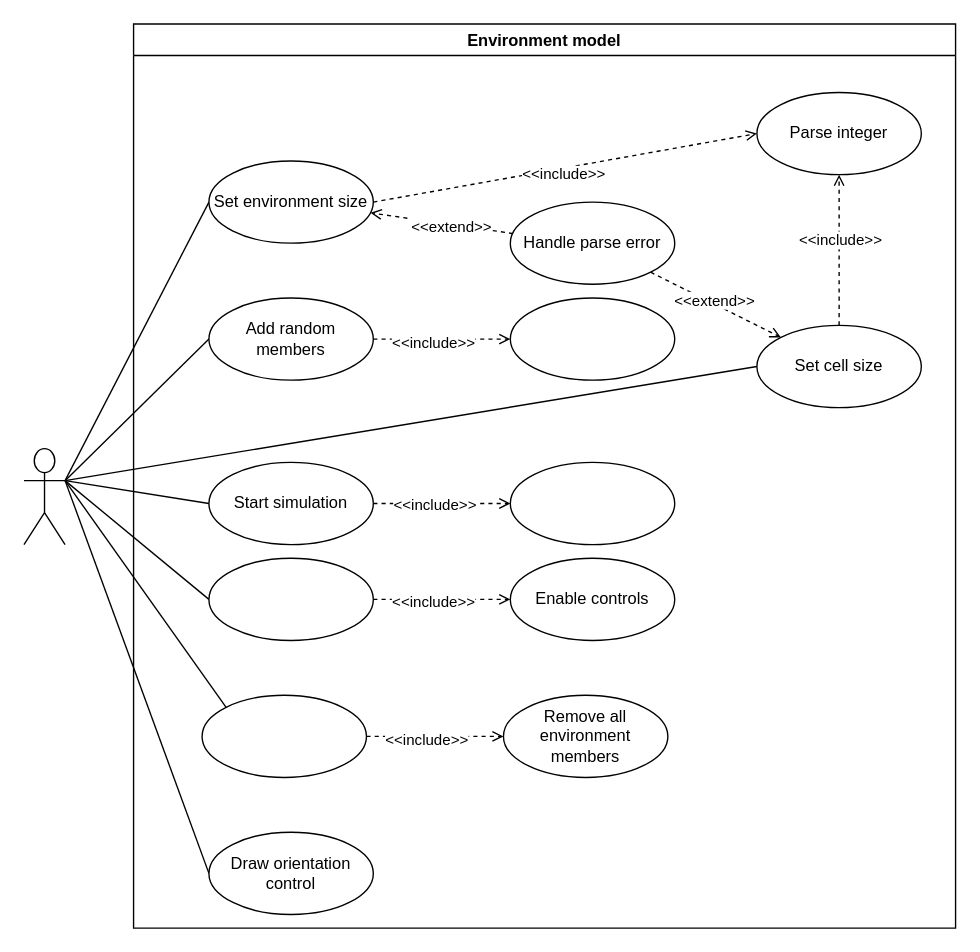
The diagram is 980 pixels wide and 952 high, and some of its shapes have lost their labels. The box of each missing label's shape, as (x1, y1, x2, y2) in pixels:
Clear: (201, 694, 366, 777)
Disable controls: (509, 461, 675, 545)
Generate random members: (509, 297, 675, 380)
Pause simulation: (208, 557, 373, 640)
User: (23, 447, 65, 545)
